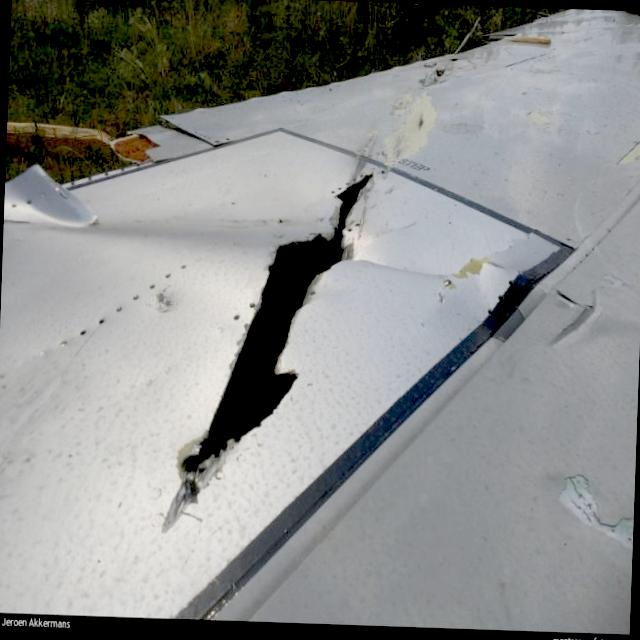crack: (152, 158, 380, 542), (412, 114, 428, 132)
